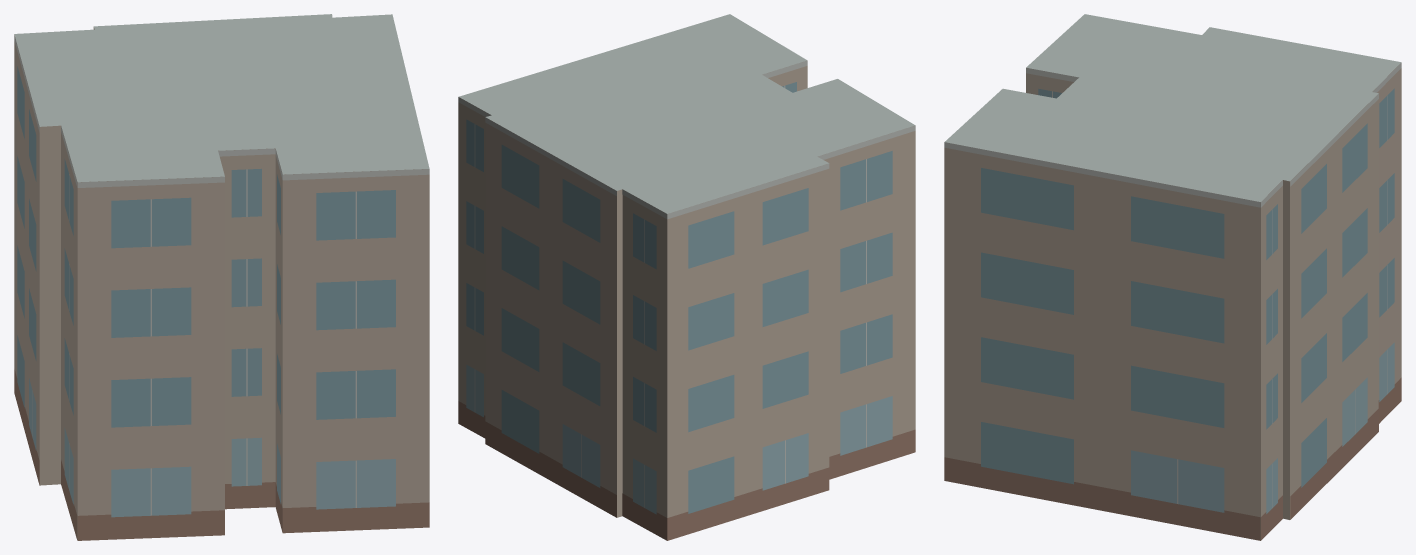
File: survey-upis-32664340.glb
The picture shows the model from 3 angles, left to right: view 1: azimuth 30°, elevation 25°; view 2: azimuth 150°, elevation 25°; view 3: azimuth 270°, elevation 25°; orthographic projection. The views are drawn at different scales.
Parts seen in each view (by area): view 1: survey-upis-32664340.tmp; view 2: survey-upis-32664340.tmp; view 3: survey-upis-32664340.tmp.
Part boxes in pixels (x1=…): survey-upis-32664340.tmp: x1=14, y1=14, x2=429, y2=540; survey-upis-32664340.tmp: x1=458, y1=14, x2=915, y2=540; survey-upis-32664340.tmp: x1=944, y1=14, x2=1401, y2=540.
Size of the model in its own units: 17.7 by 14.85 by 18.17.
